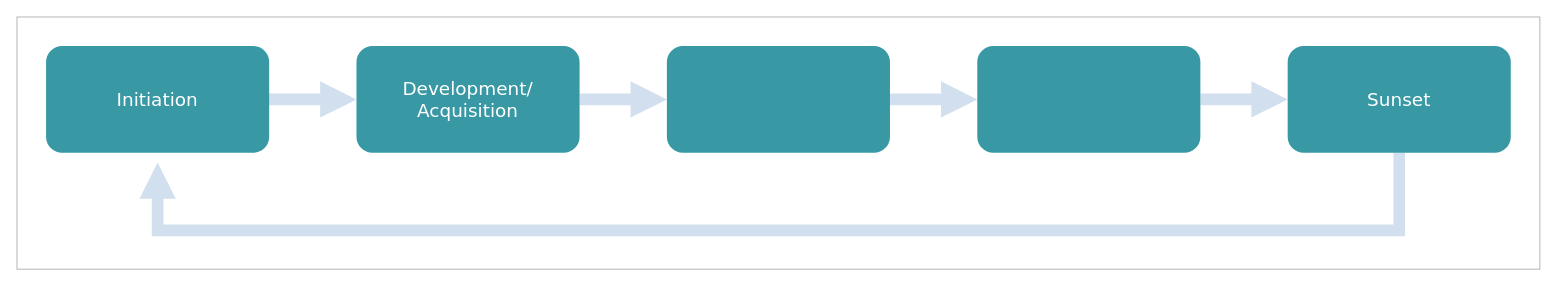
Some shapes in this 1557 by 286 pixel diagram are drawn without their labels. The shapes that lost their labels are listed below. From the top down, each one's box as (x1, y1, x2, y2) in pixels, then its label:
(666, 46, 889, 152): Implementation and Assessment
(977, 46, 1200, 152): Operations and Maintenance
